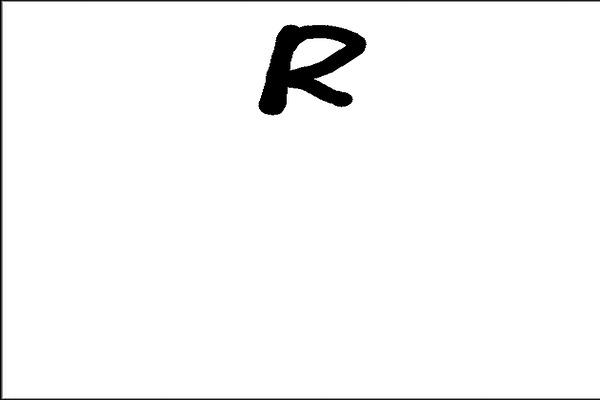R: (250, 17, 370, 125)
